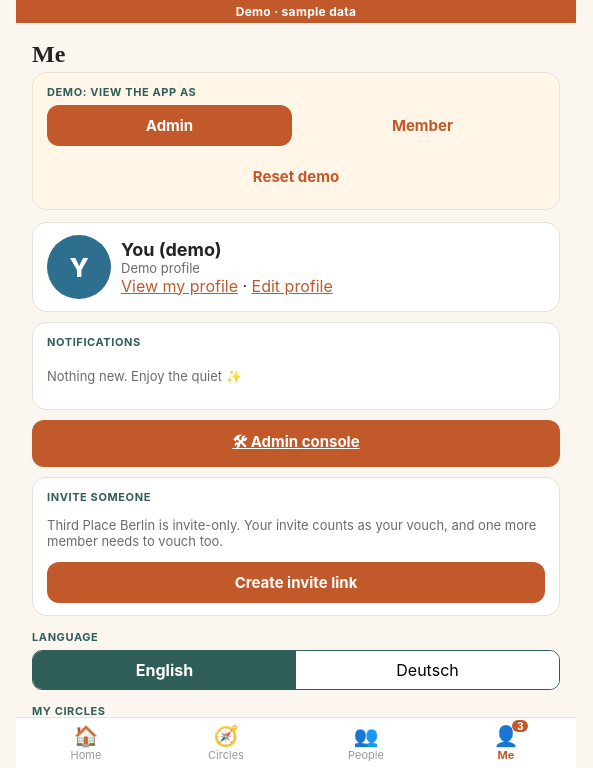
Test: switching to Member hides the admin entry; switching back shows it
Expected: the link "🛠 Admin console" is shown, [32,420,560,467]
Click the button "Member" at coordinates (422, 126), box [300,105,545,146]
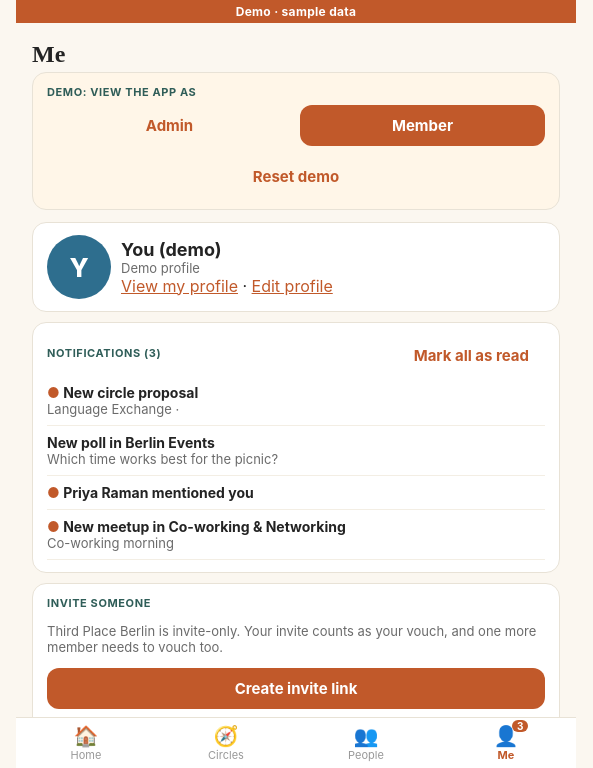
Click the button "Admin" at coordinates (170, 126), box [47,105,292,146]
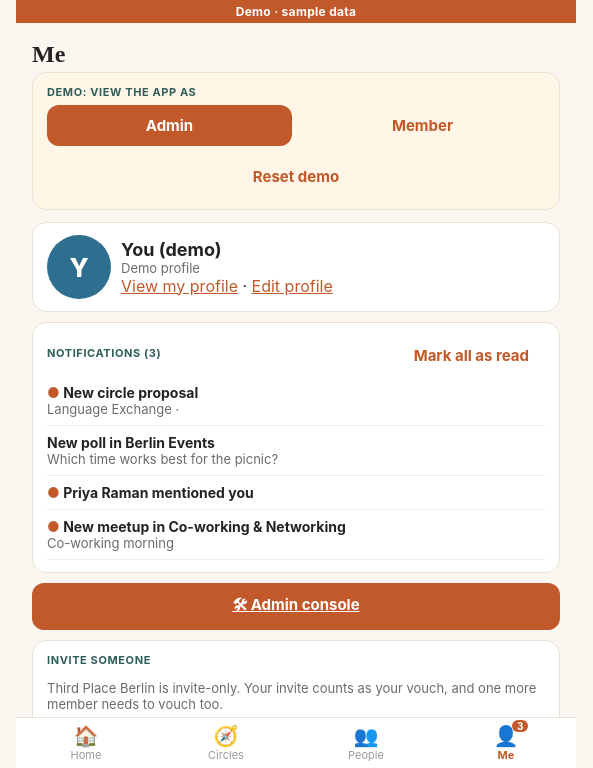
Expected: the link "🛠 Admin console" is shown, [32,583,560,630]
